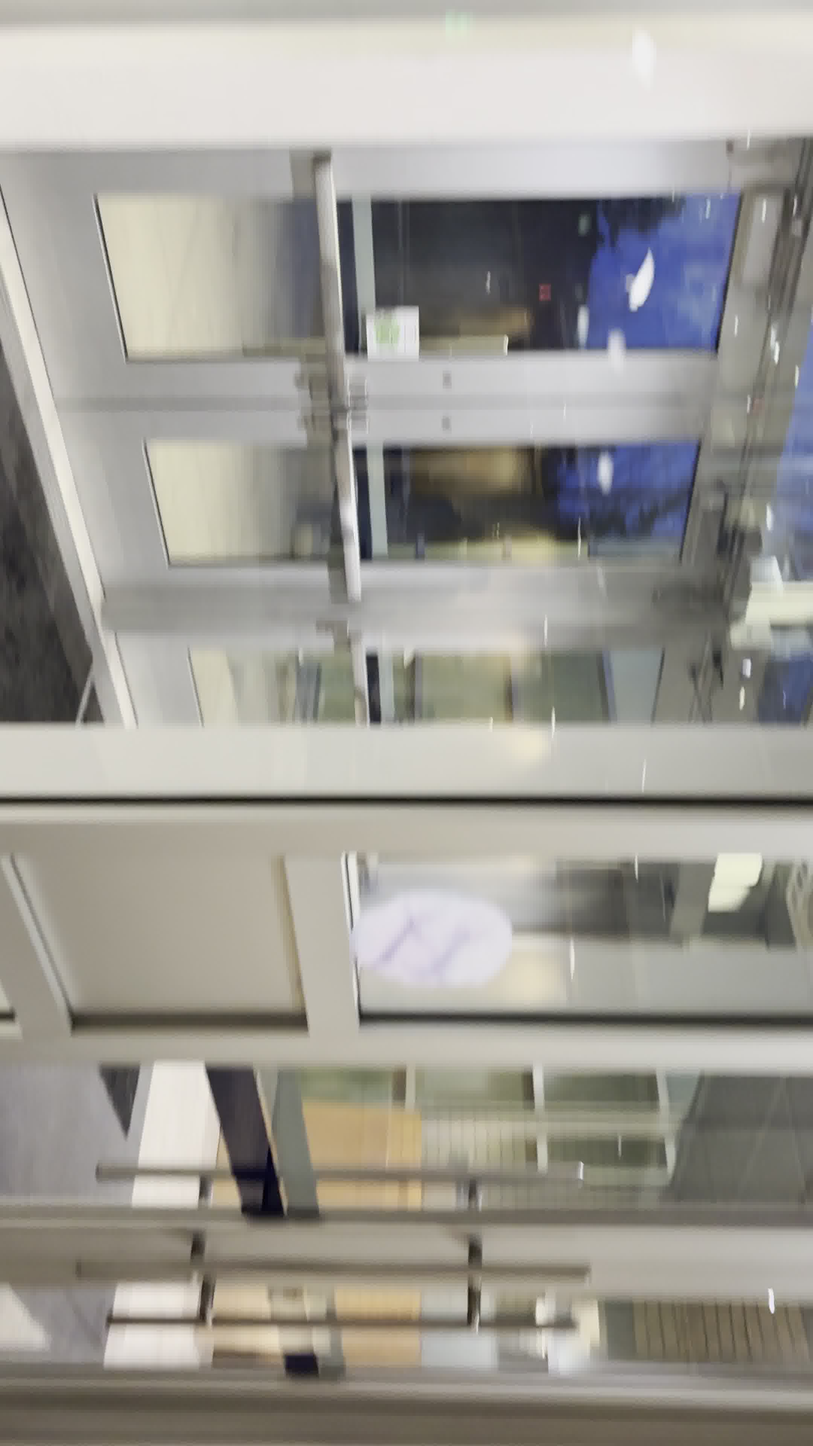Target: (345, 875, 518, 1002)
